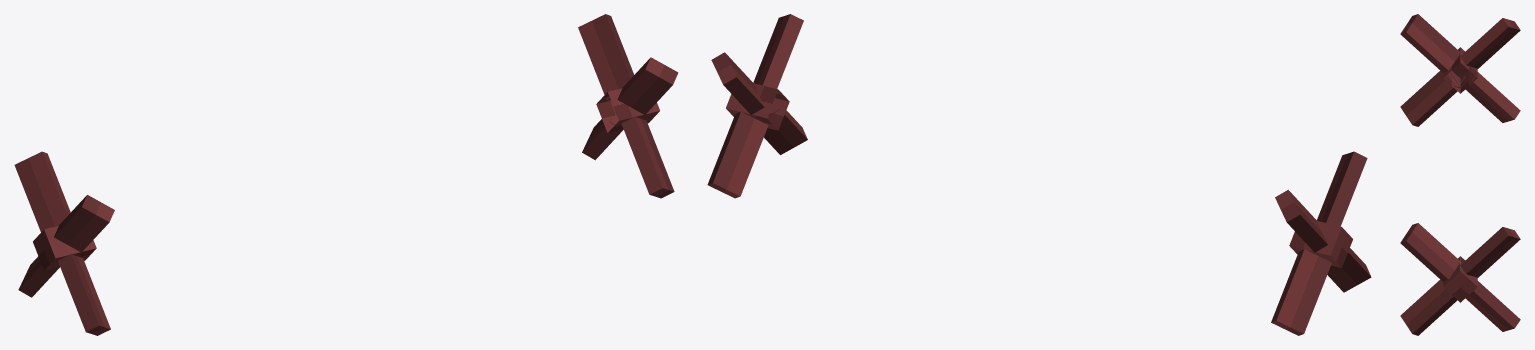
File: advanced_coke_oven_baseheater_fan.obj
3 renders of one model, left to right at view 1: azimuth 30°, elevation 25°; view 2: azimuth 150°, elevation 25°; view 3: azimuth 270°, elevation 25°, orthographic. The views are drawn at different scales.
Visible parts, largest first — view 1: cube_fan; view 2: cube_fan; view 3: cube_fan.
Boxes of the visible parts, <box> form: cube_fan: <box>14,14,678,335</box>; cube_fan: <box>707,14,1371,335</box>; cube_fan: <box>1400,14,1520,335</box>.
Size of the model in its own units: 2.75 by 0.625 by 0.625.
